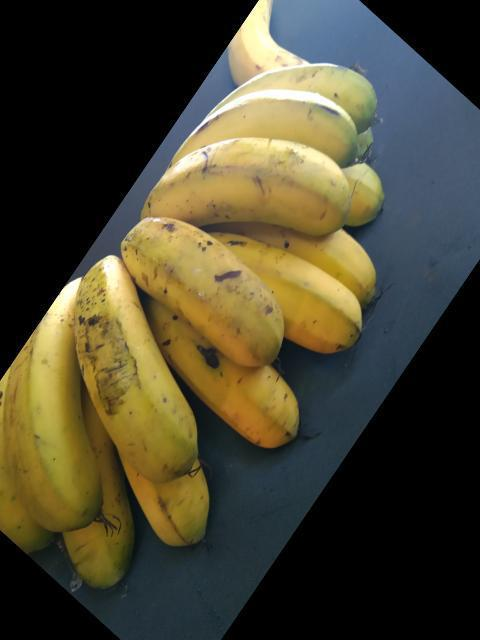ripe: (76, 245, 210, 494), (105, 217, 287, 374), (129, 135, 359, 242), (0, 289, 90, 533), (210, 225, 370, 358), (183, 70, 382, 163), (183, 341, 315, 452)
